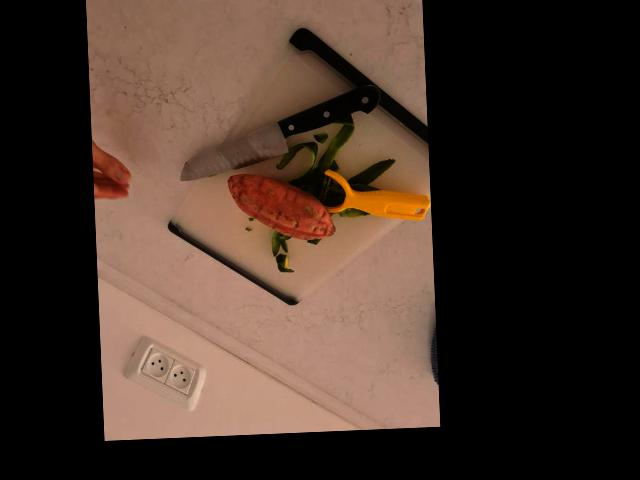sweet_potato: (228, 168, 339, 242)
